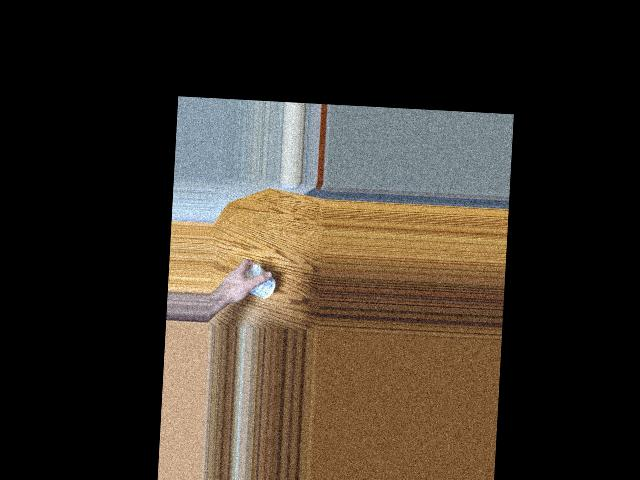cotage: (241, 263, 274, 299)
